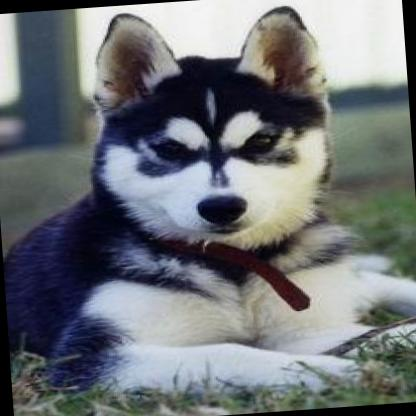Siberian_husky: (0, 0, 416, 406)
